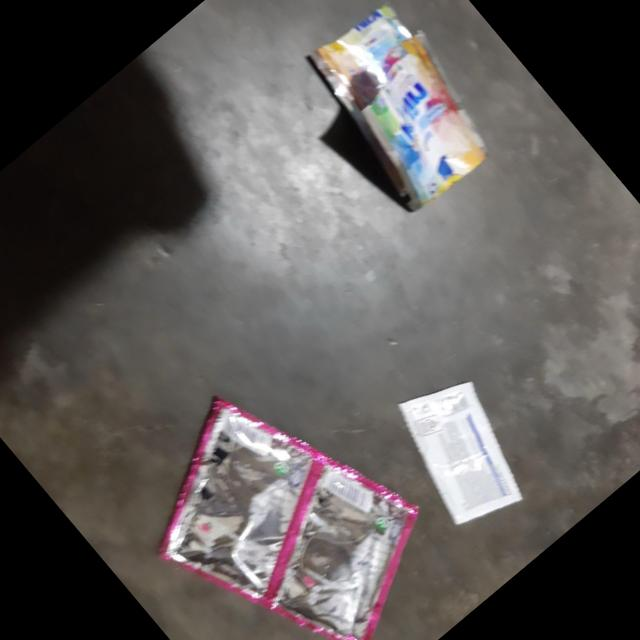KemasanPlastik: (102, 341, 470, 640), (282, 0, 519, 230), (370, 353, 555, 545)
